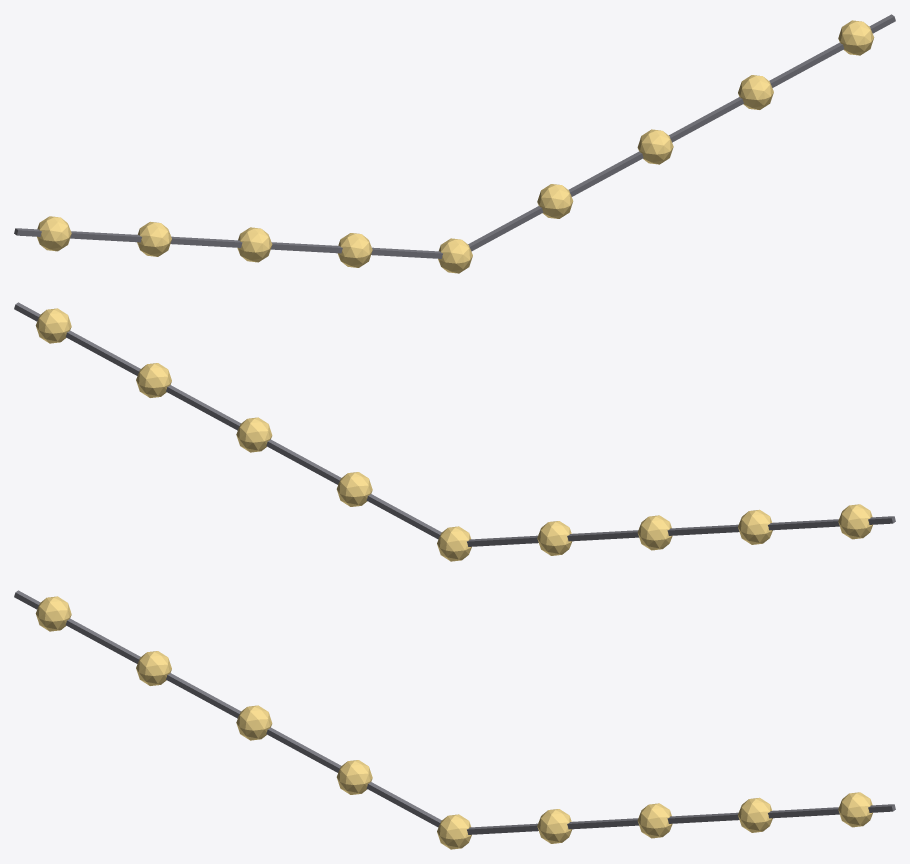
File: cozy-home-interiors-string-lights-8986b4cd.glb
3 views of the same model, one above another, from view 1: azimuth 30°, elevation 25°; view 2: azimuth 150°, elevation 25°; view 3: azimuth 330°, elevation 25° (orthographic).
Parts seen in each view (by area): view 1: string-lights; view 2: string-lights; view 3: string-lights.
Part boxes in pixels (<box>): string-lights: <box>14,14,895,273</box>; string-lights: <box>14,302,895,561</box>; string-lights: <box>14,590,895,849</box>.
Bounding box in the file's own units: 1.4 × 0.233 × 0.05.
